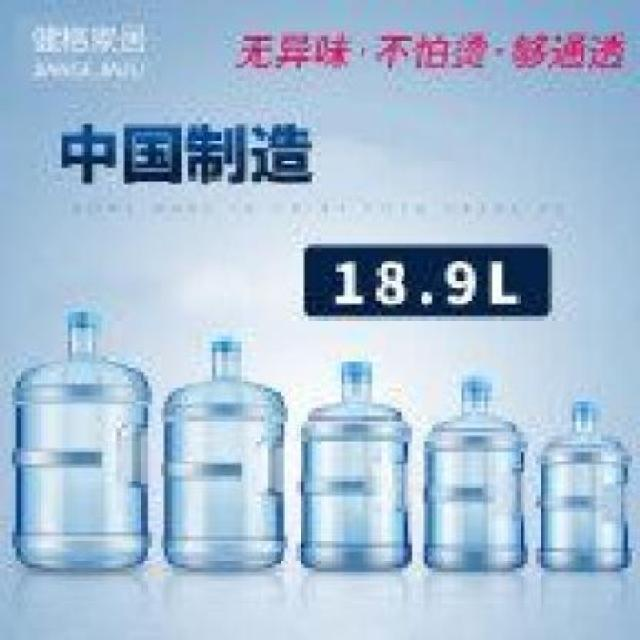coolerbottle: (5, 309, 156, 583)
